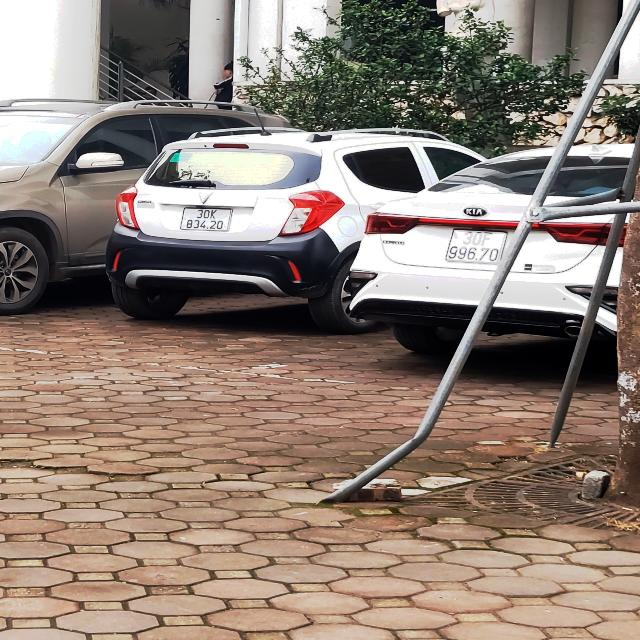license_plate: (448, 230, 508, 265), (182, 209, 233, 232)
